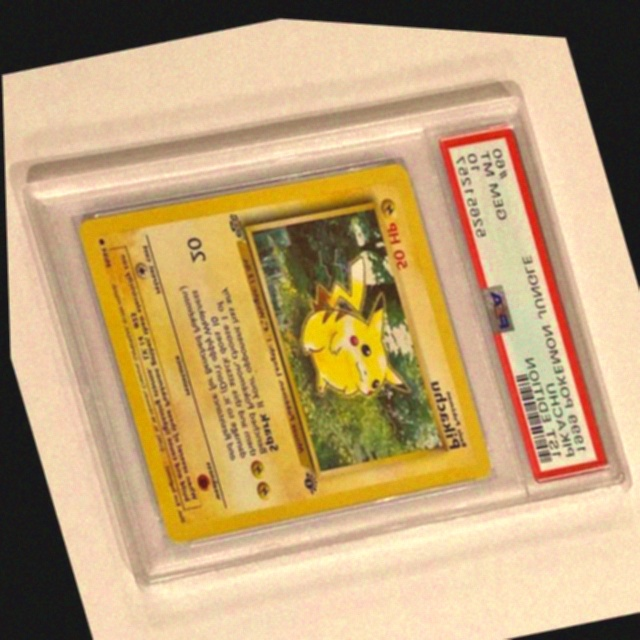card: (76, 156, 488, 542)
